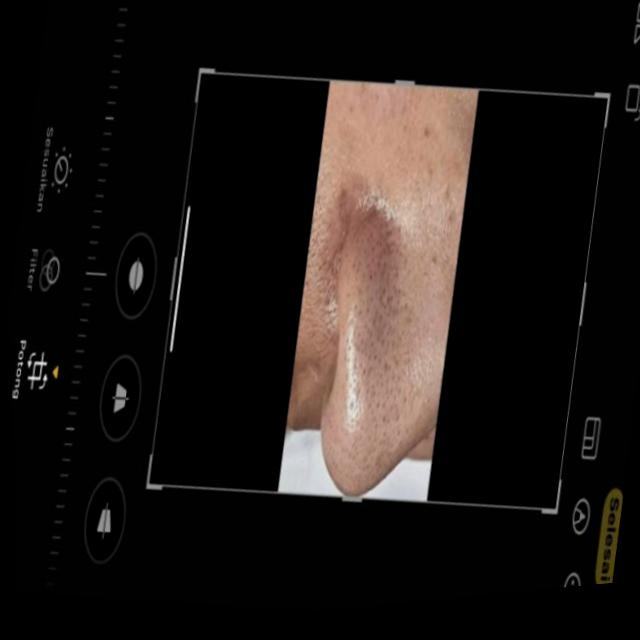blackhead: (334, 183, 415, 468)
